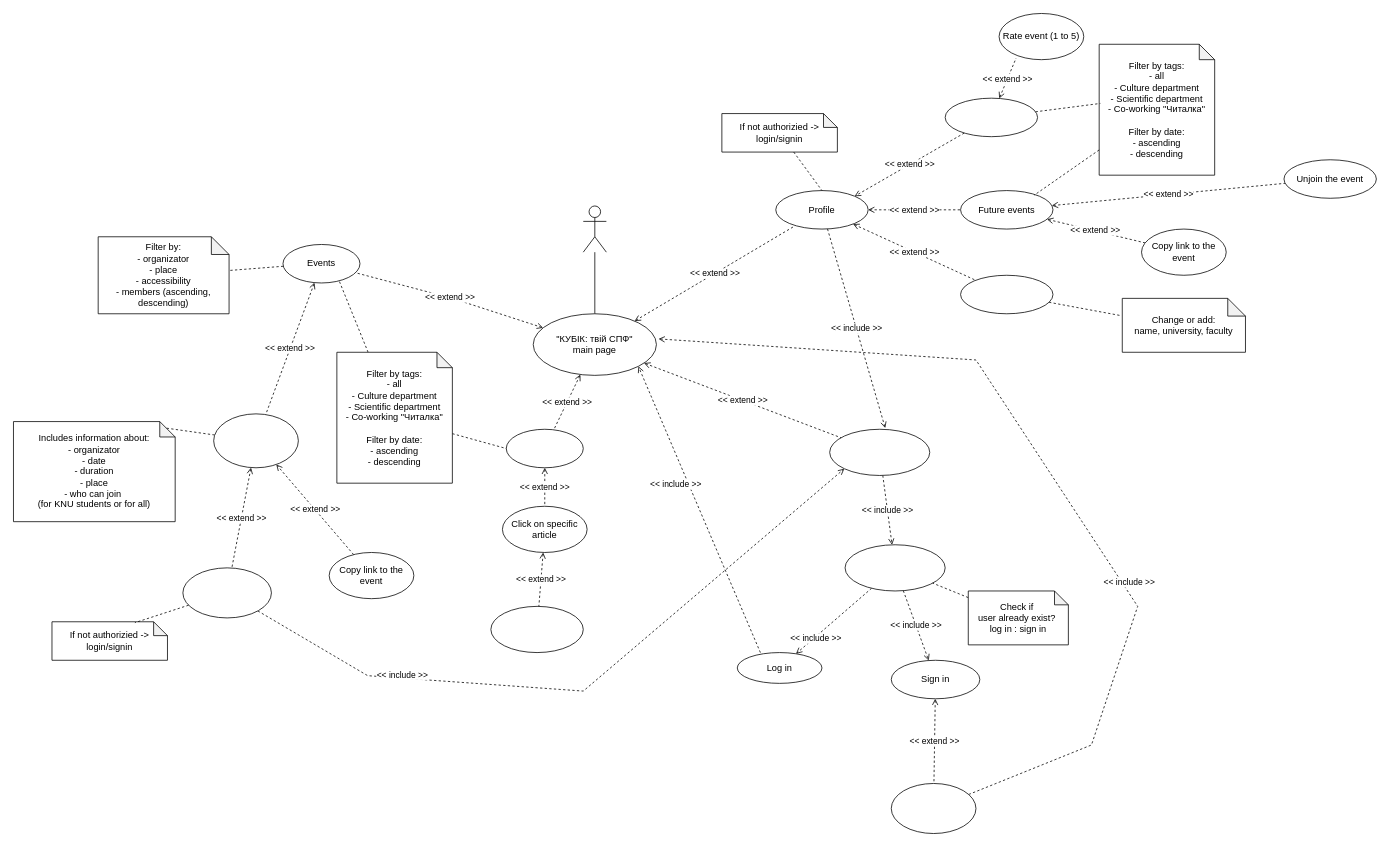
Image size: 1390x847. Some labels were removed from this diagram. The centre of each missing label's shape, as x and y in pixels:
"Archive events" goes at (x=991, y=117).
"Click on specific event" goes at (x=255, y=440).
"Copy link to the article" goes at (x=536, y=629).
"Enter email and password" goes at (x=894, y=567).
"Enter: name, university, faculty" goes at (x=933, y=808).
"Going to join the event" goes at (x=226, y=592).
"Log in / Sign up" goes at (x=879, y=452).
"News" goes at (x=544, y=448).
"Student" goes at (x=594, y=228).
"Update profile" goes at (x=1006, y=294).
